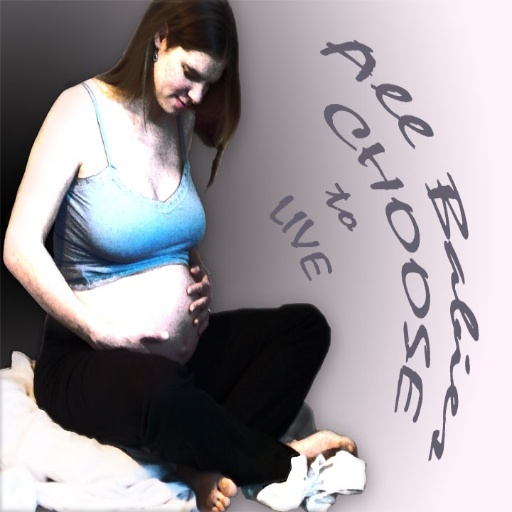hand: (91, 325, 169, 376), (185, 262, 211, 324)
